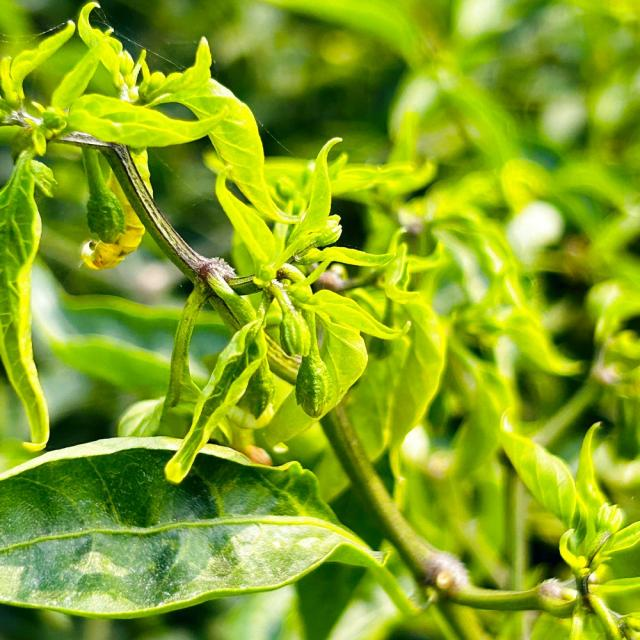Chilli_Leaf_Curl: (1, 1, 637, 636), (1, 2, 413, 482), (160, 134, 412, 483), (1, 433, 408, 620), (495, 409, 639, 638)
